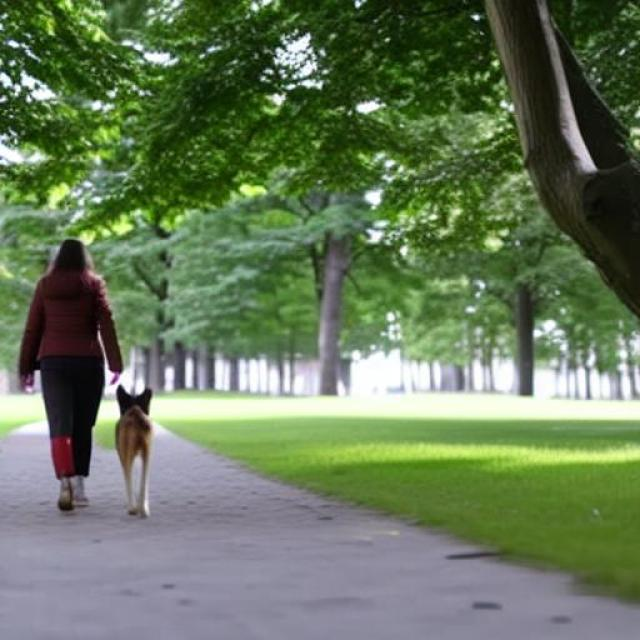Unleashed_Dog: (39, 358, 154, 520)
